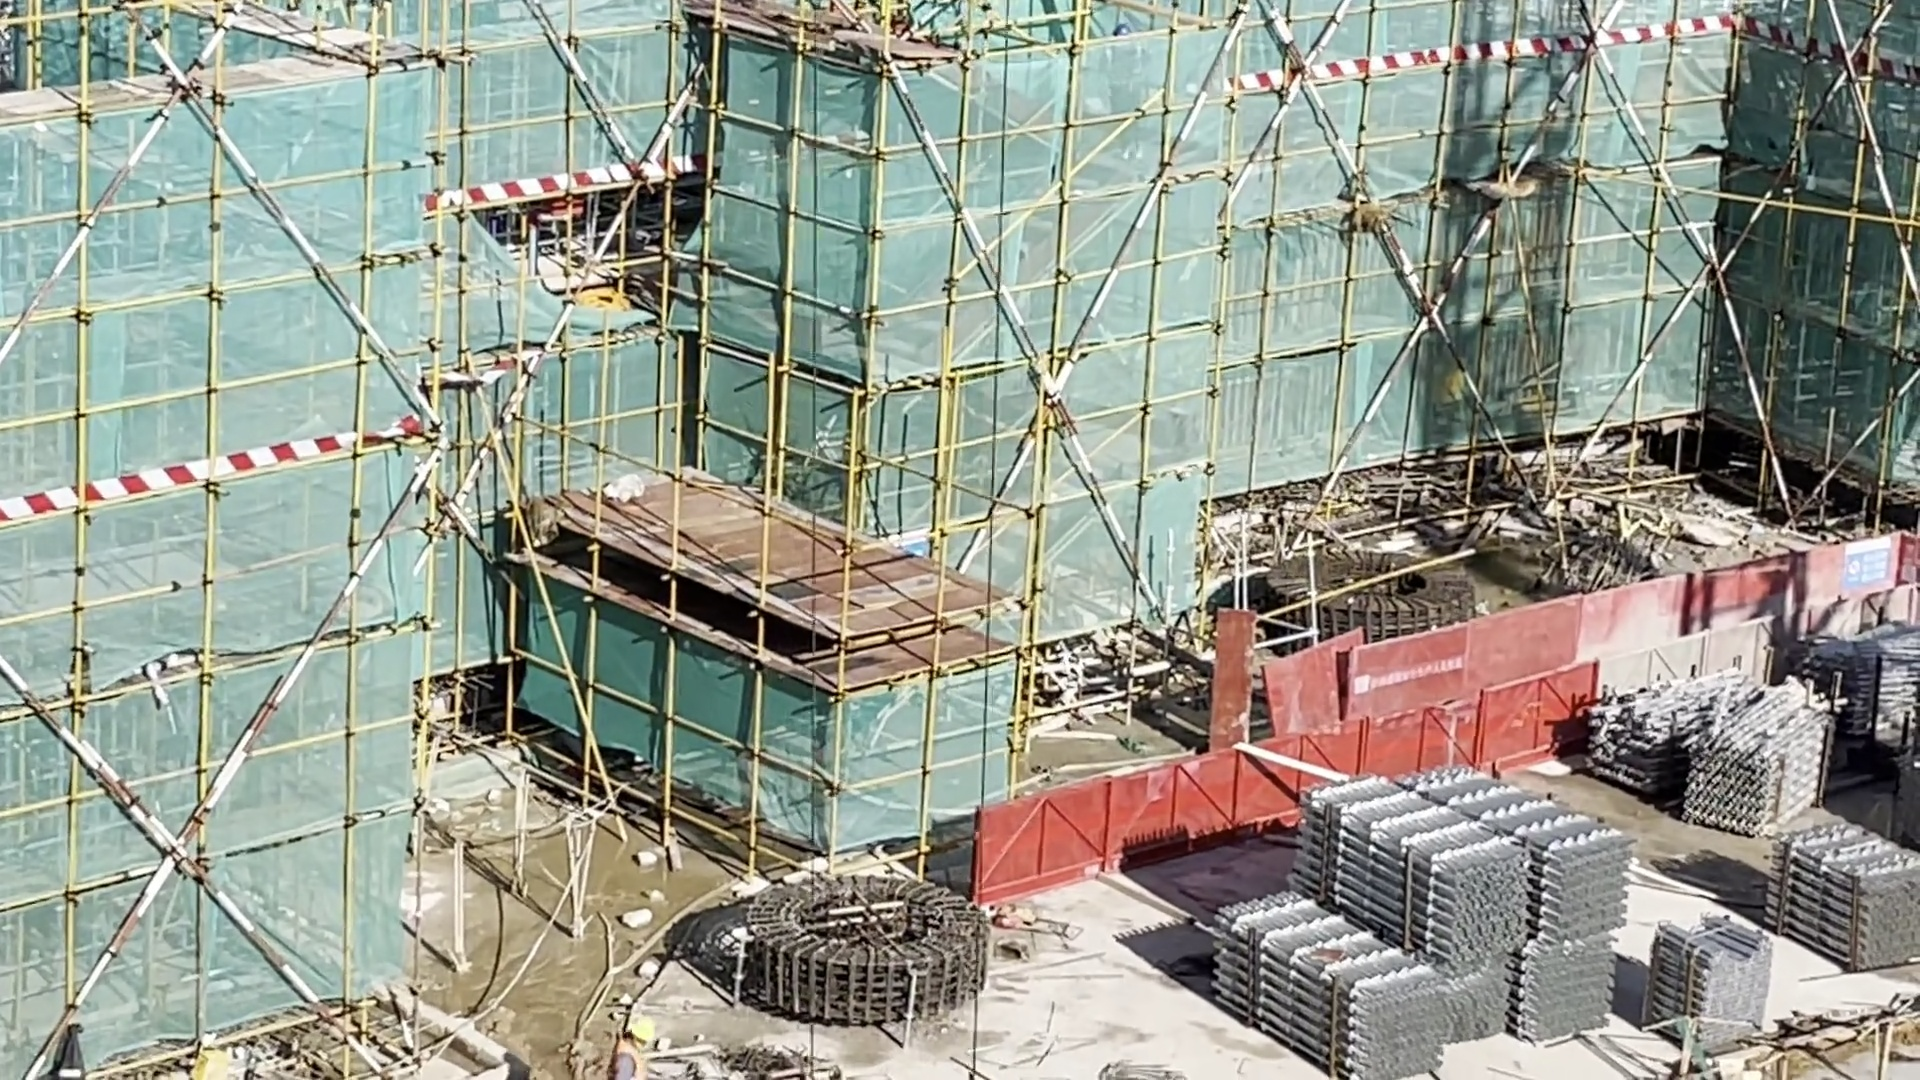fence: (978, 584, 1920, 898)
scaffold: (1204, 760, 1635, 1080), (1588, 655, 1851, 843), (1640, 906, 1774, 1071), (1779, 827, 1920, 973)
vest: (609, 1043, 647, 1080)
